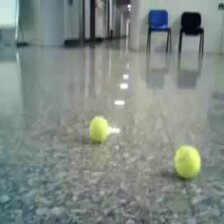tennis: (172, 146, 201, 178), (88, 115, 108, 141)
